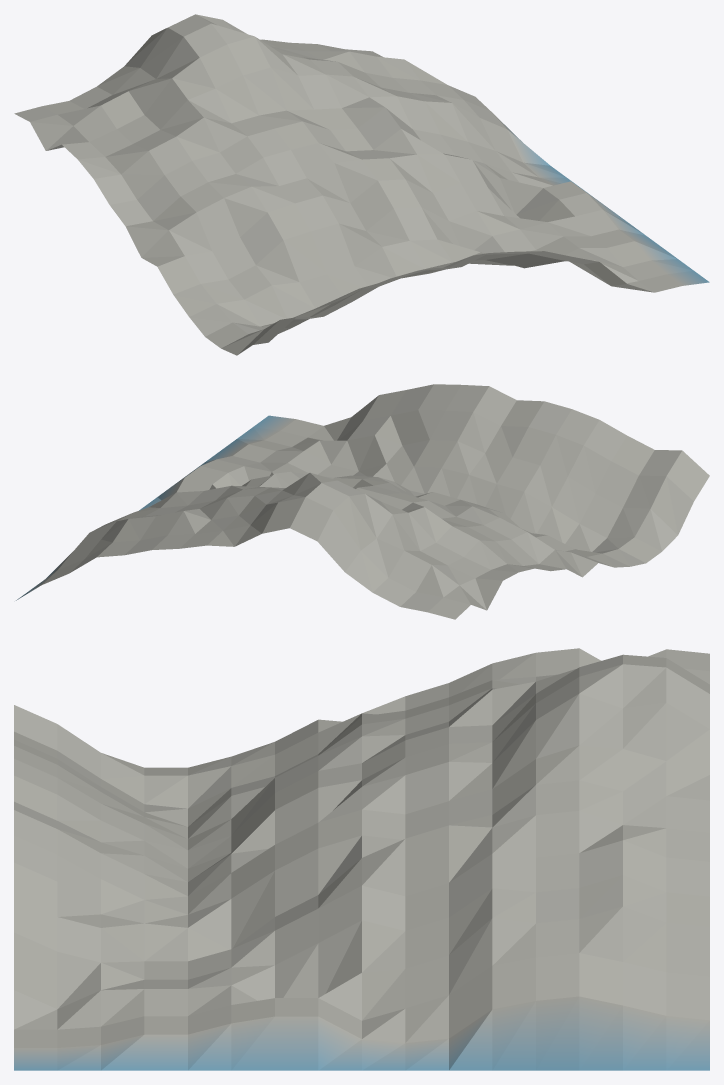
3 views of the same model, one above another, from view 1: azimuth 30°, elevation 25°; view 2: azimuth 150°, elevation 25°; view 3: azimuth 270°, elevation 25° (orthographic). The views are drawn at different scales.
Bounding box in the file's own units: 32 × 11.29 × 32.
